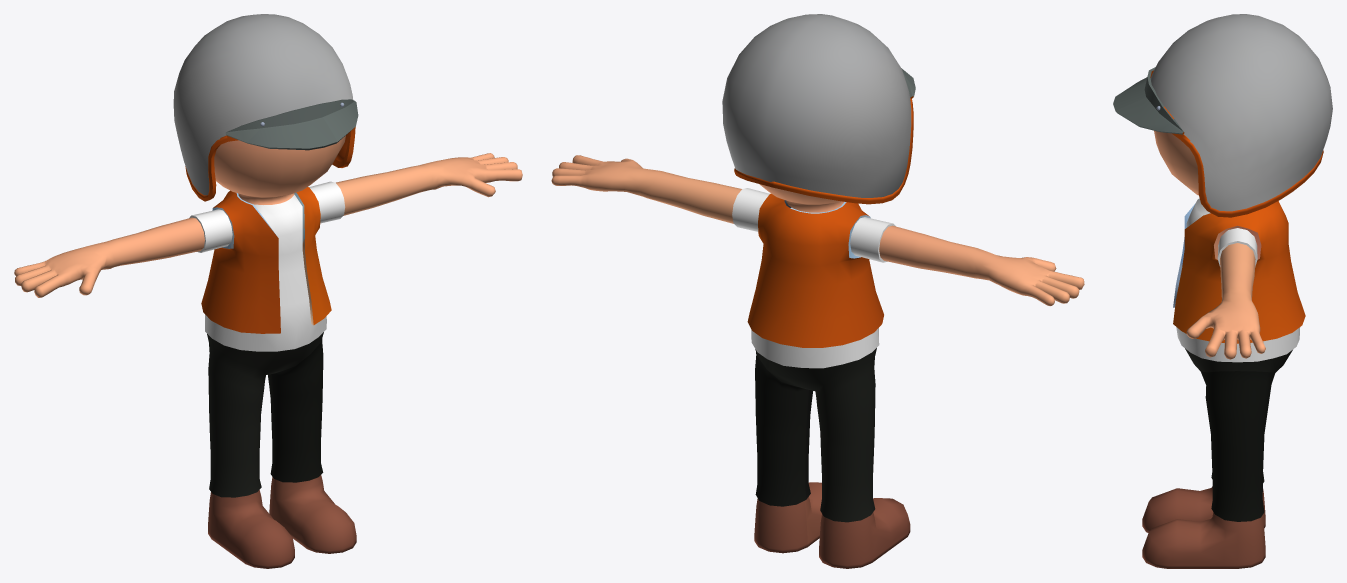
Rendered from SM_Courier.fbx.
3 renders of one model, left to right at view 1: azimuth 30°, elevation 25°; view 2: azimuth 150°, elevation 25°; view 3: azimuth 270°, elevation 25°, orthographic. The views are drawn at different scales.
Parts seen in each view (by area): view 1: Courier; view 2: Courier; view 3: Courier.
Part boxes in pixels (<box>): Courier: <box>14,14,522,568</box>; Courier: <box>551,14,1084,568</box>; Courier: <box>1113,14,1332,568</box>.
Bounding box in the file's own units: 368 × 357 × 138.
